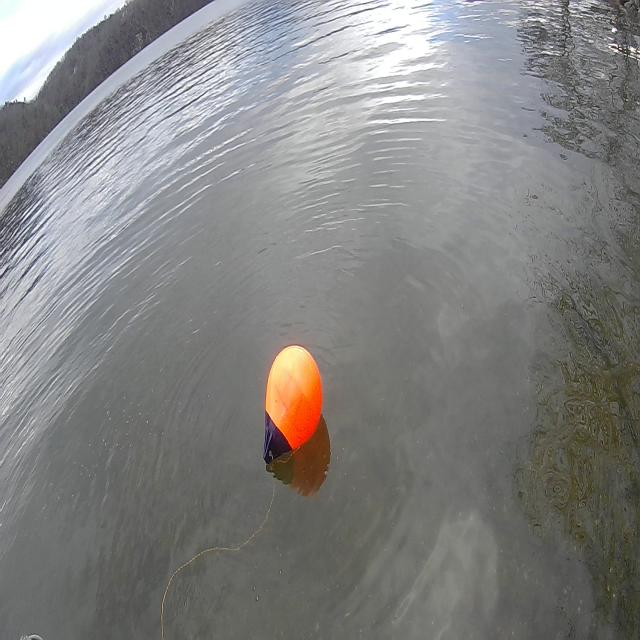Buoy: (261, 337, 327, 471)
